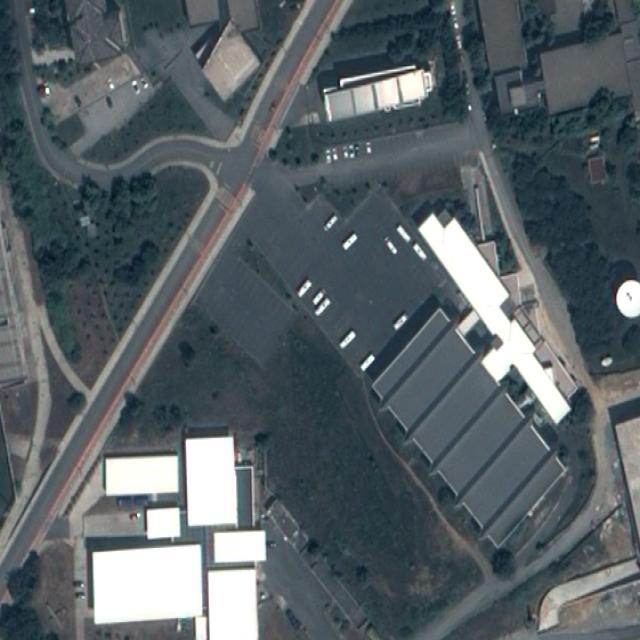Batiment: (371, 302, 566, 547), (419, 214, 570, 424), (91, 547, 201, 624), (185, 436, 238, 526), (202, 21, 260, 100), (209, 570, 258, 639), (106, 454, 179, 496), (214, 531, 266, 563), (146, 507, 180, 539)
